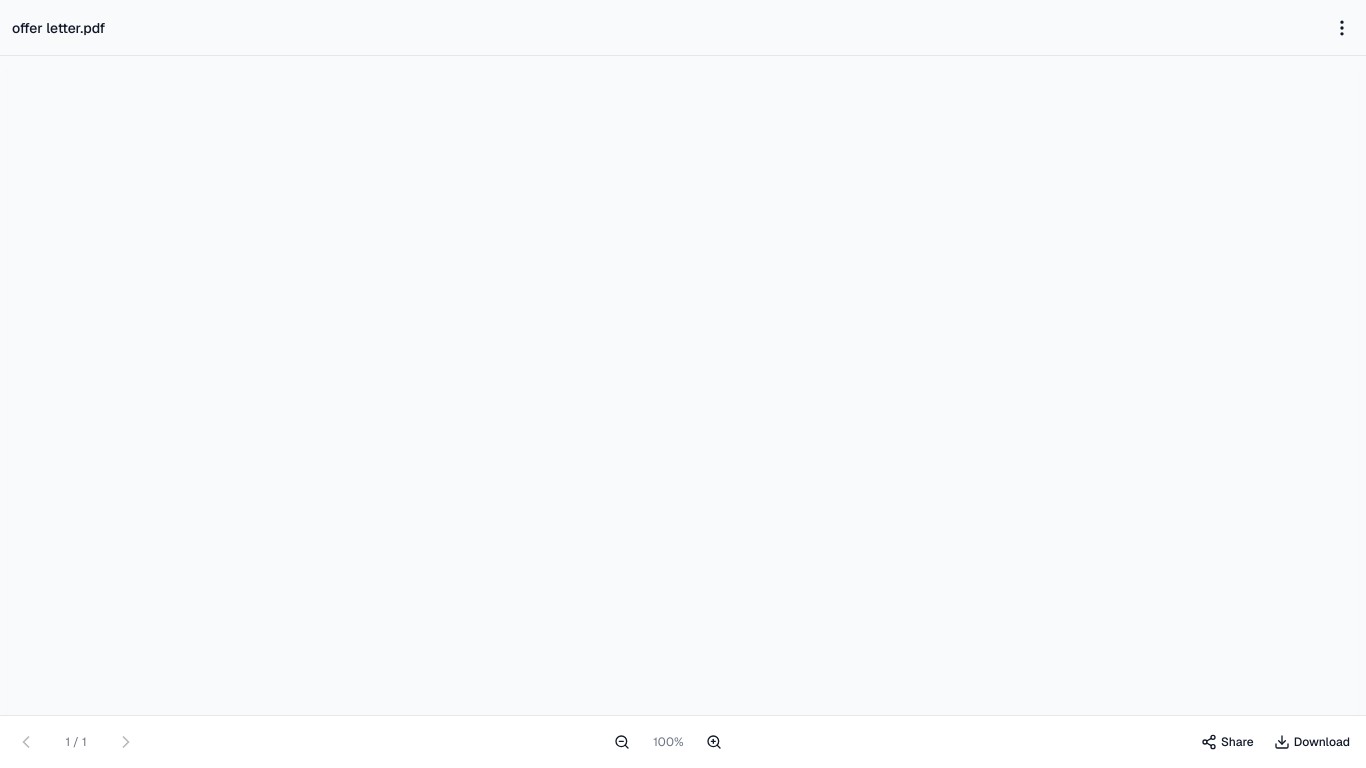
PdfViewer — zoom › zoom in and zoom out change the displayed percentage
Expected: the text "1 / 1" is shown, [66,734,86,750]
Expected: the text "100%" is shown, [653,734,684,750]
Click the button named "Zoom in".
click(714, 742)  # box [696,724,732,760]
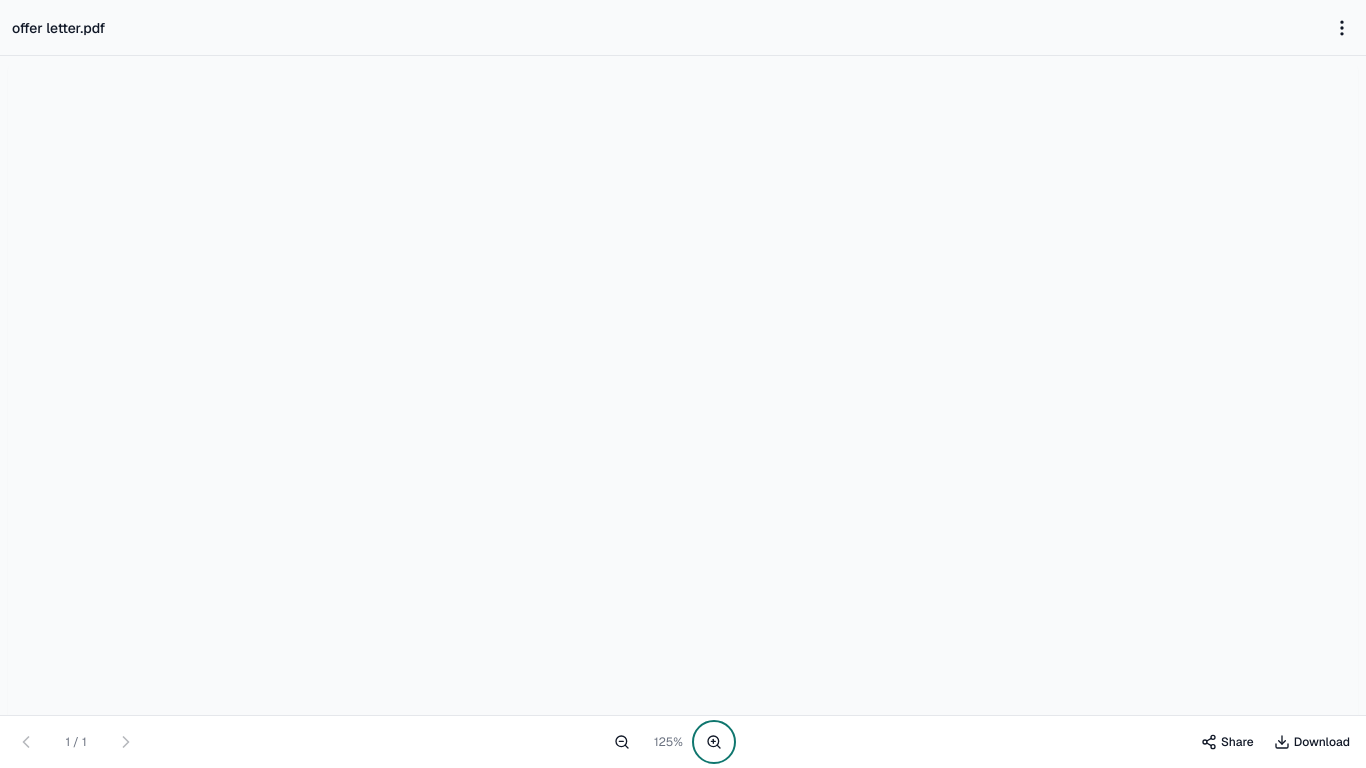
Now the text "125%" is shown, box [654,734,683,750]
Click the button named "Zoom out".
click(622, 742)  # box [604,724,640,760]
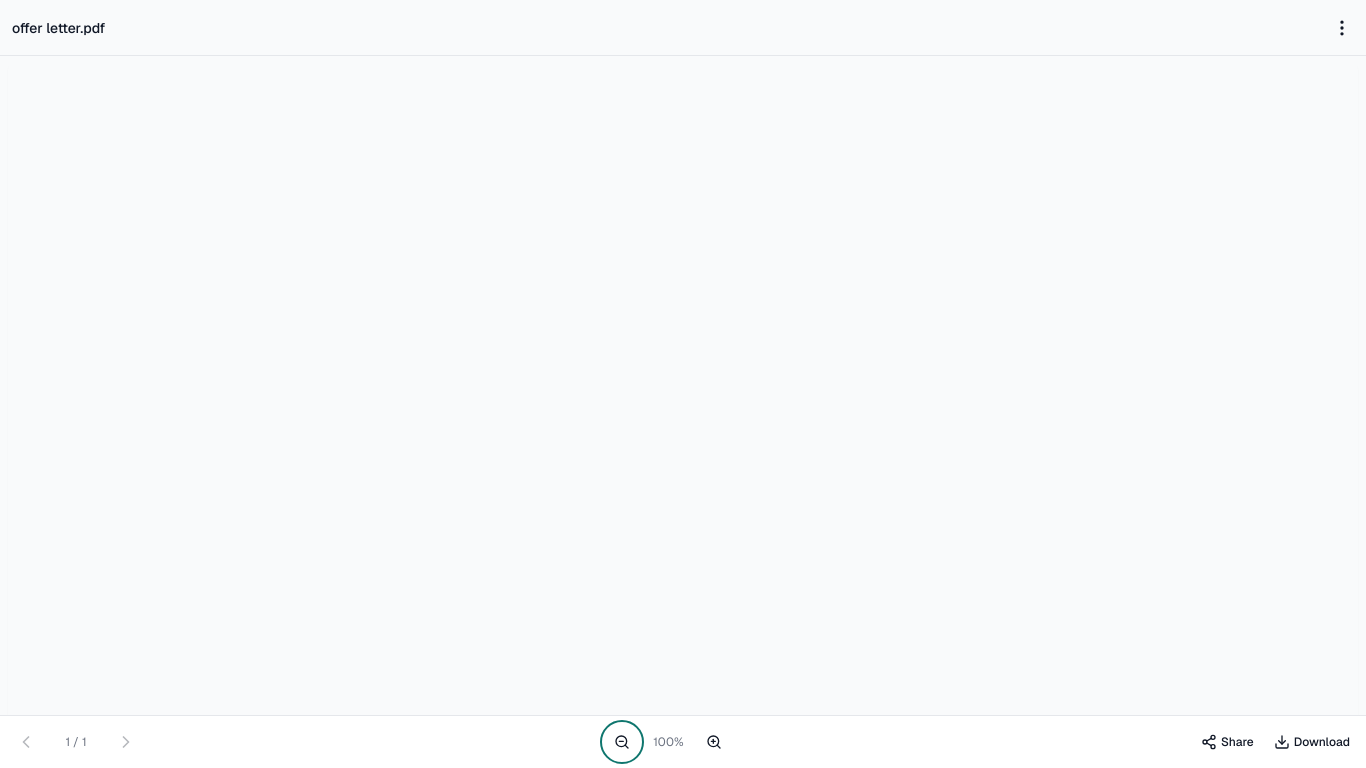
Now the text "100%" is shown, box [653,734,684,750]
